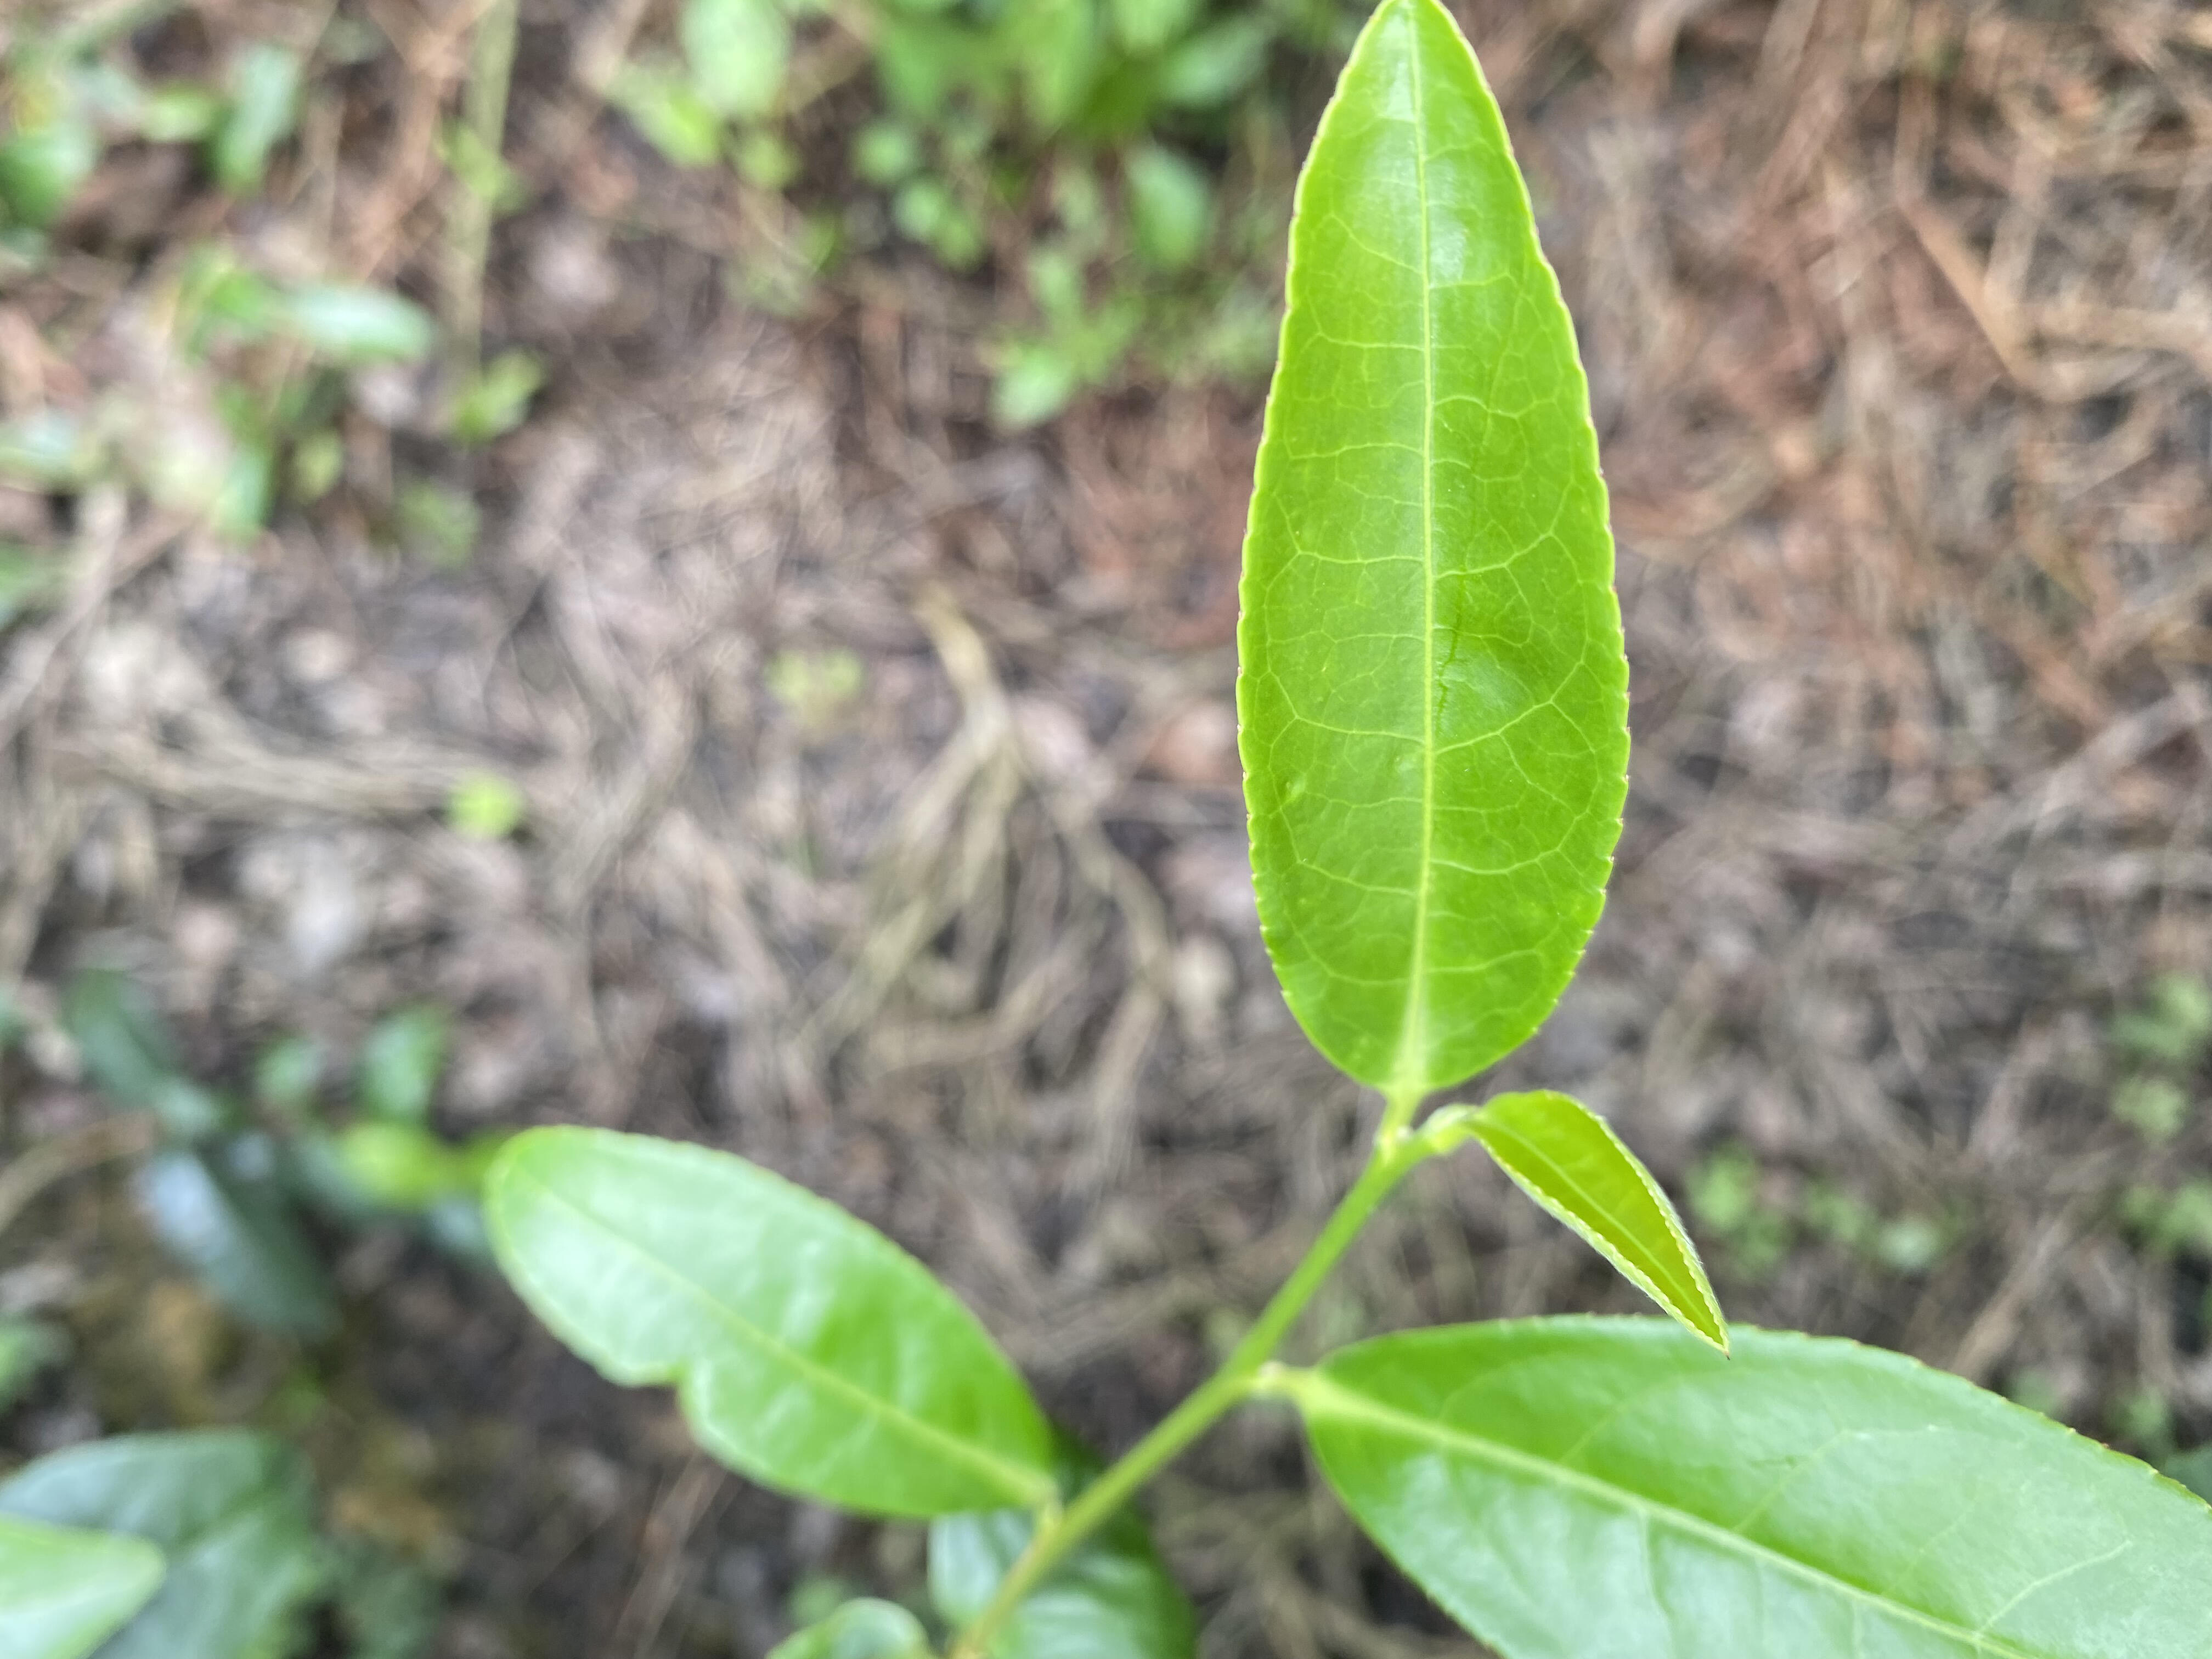chihuo_low: (481, 1124, 1055, 1520)
healthy: (1238, 2, 1634, 1103), (1294, 1309, 2207, 1656), (1468, 1091, 1726, 1352)
